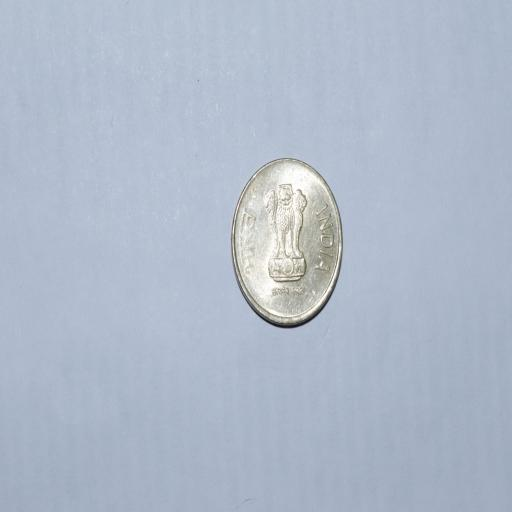rupee5: (230, 157, 342, 325)
